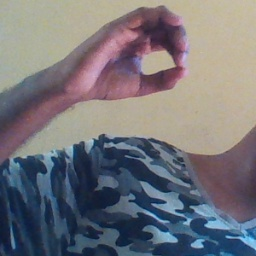O: (71, 4, 192, 108)
